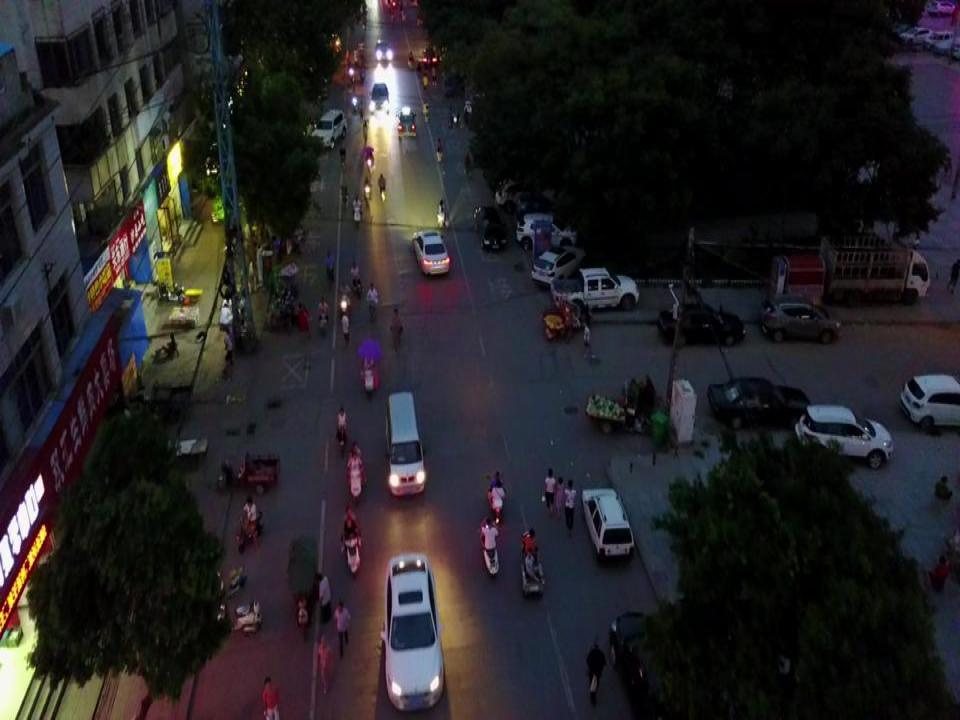car: (379, 552, 445, 711), (608, 610, 696, 720), (794, 404, 894, 469), (707, 376, 813, 431), (580, 487, 635, 564), (757, 295, 843, 344), (657, 301, 746, 347), (899, 375, 960, 429), (515, 212, 579, 252), (531, 244, 586, 288), (496, 175, 558, 213), (411, 229, 450, 275), (472, 205, 508, 251), (310, 110, 347, 150), (515, 193, 563, 223), (316, 634, 336, 693), (332, 601, 351, 660), (314, 571, 333, 625), (396, 106, 417, 138), (370, 82, 390, 115), (374, 39, 393, 60), (421, 47, 438, 68)
truck: (817, 236, 930, 307), (550, 266, 640, 310)
van: (385, 392, 427, 495)
